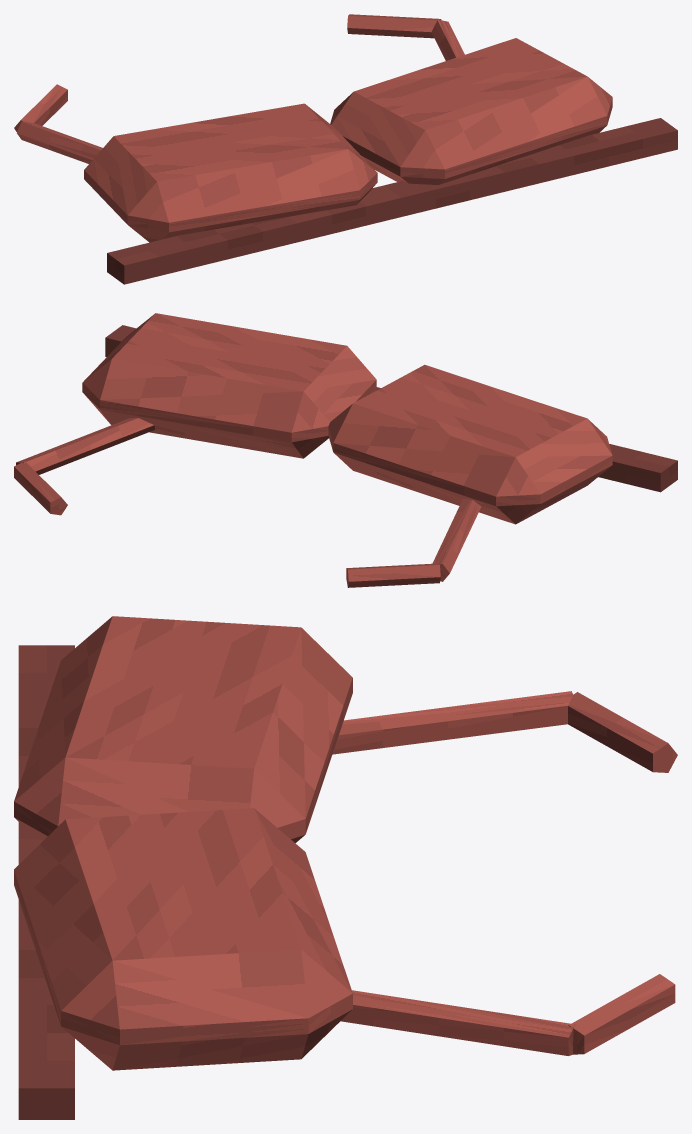
The model's file is bikini_top_short.glb.
3 views of the same model, one above another, from view 1: azimuth 30°, elevation 25°; view 2: azimuth 150°, elevation 25°; view 3: azimuth 270°, elevation 25° (orthographic). The views are drawn at different scales.
Visible parts, largest first — view 1: block_shaped cup (×2), block_underband, block_strap 1 (×2), block_strap 0 (×2); view 2: block_shaped cup (×2), block_strap 0 (×2), block_strap 1 (×2), block_underband; view 3: block_shaped cup (×2), block_strap 0 (×2), block_underband, block_strap 1 (×2).
Boxes of the visible parts, left/top/right/bottom form: block_shaped cup (×2): left=84, top=38, right=612, bottom=242; block_underband: left=107, top=118, right=677, bottom=284; block_strap 1 (×2): left=14, top=14, right=441, bottom=131; block_strap 0 (×2): left=17, top=19, right=464, bottom=163; block_shaped cup (×2): left=82, top=313, right=612, bottom=524; block_strap 0 (×2): left=16, top=418, right=481, bottom=581; block_strap 1 (×2): left=14, top=461, right=440, bottom=587; block_underband: left=105, top=325, right=677, bottom=492; block_shaped cup (×2): left=14, top=616, right=352, bottom=1070; block_strap 0 (×2): left=332, top=691, right=574, bottom=1055; block_underband: left=18, top=645, right=74, bottom=1119; block_strap 1 (×2): left=568, top=692, right=677, bottom=1054.
Bounding box in the file's own units: 0.1807 × 0.0209 × 0.1144.
1 material, 1 textured.
